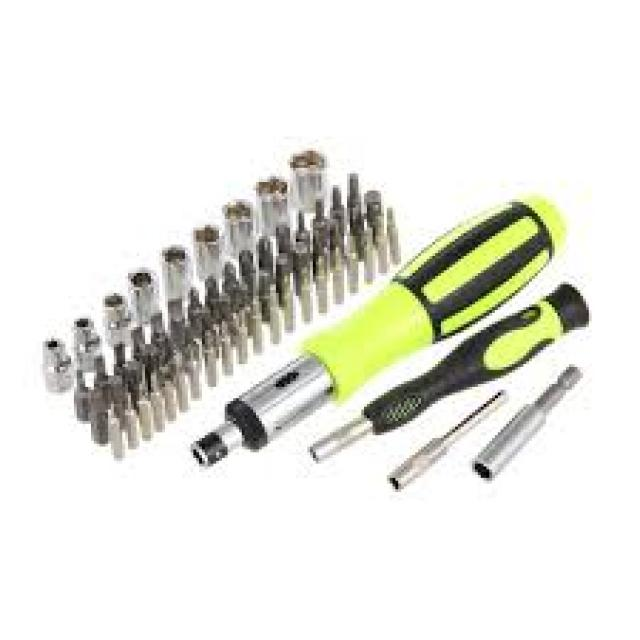Screwdriver: (184, 197, 591, 475), (310, 278, 600, 487)
